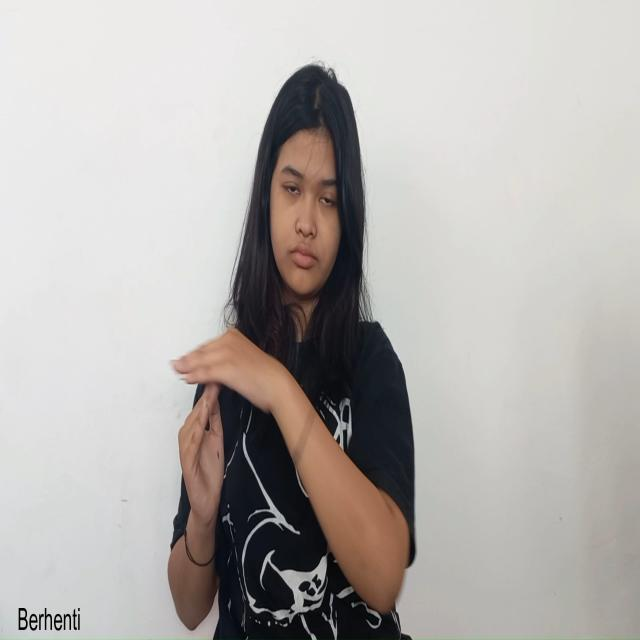Berhenti -BISINDO-: (168, 323, 284, 545)
